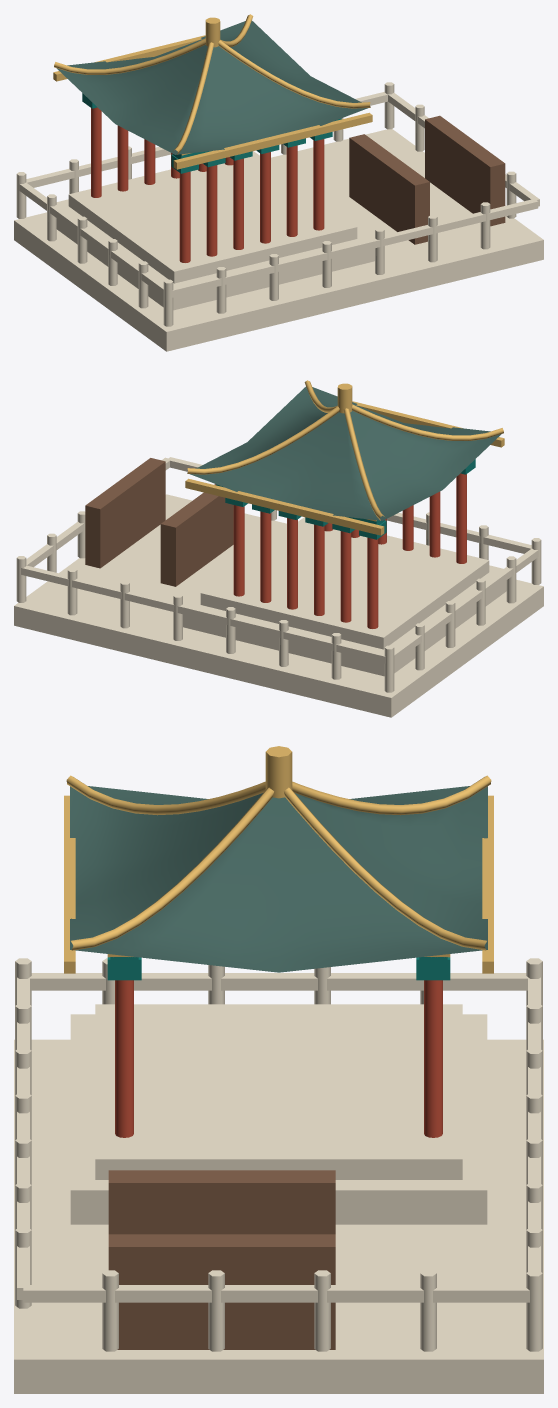
The model's file is lakeside-deck.glb.
3 views of the same model, one above another, from view 1: azimuth 30°, elevation 25°; view 2: azimuth 150°, elevation 25°; view 3: azimuth 270°, elevation 25° (orthographic). The views are drawn at different scales.
Size of the model in its own units: 2 by 1.24 by 1.4.
